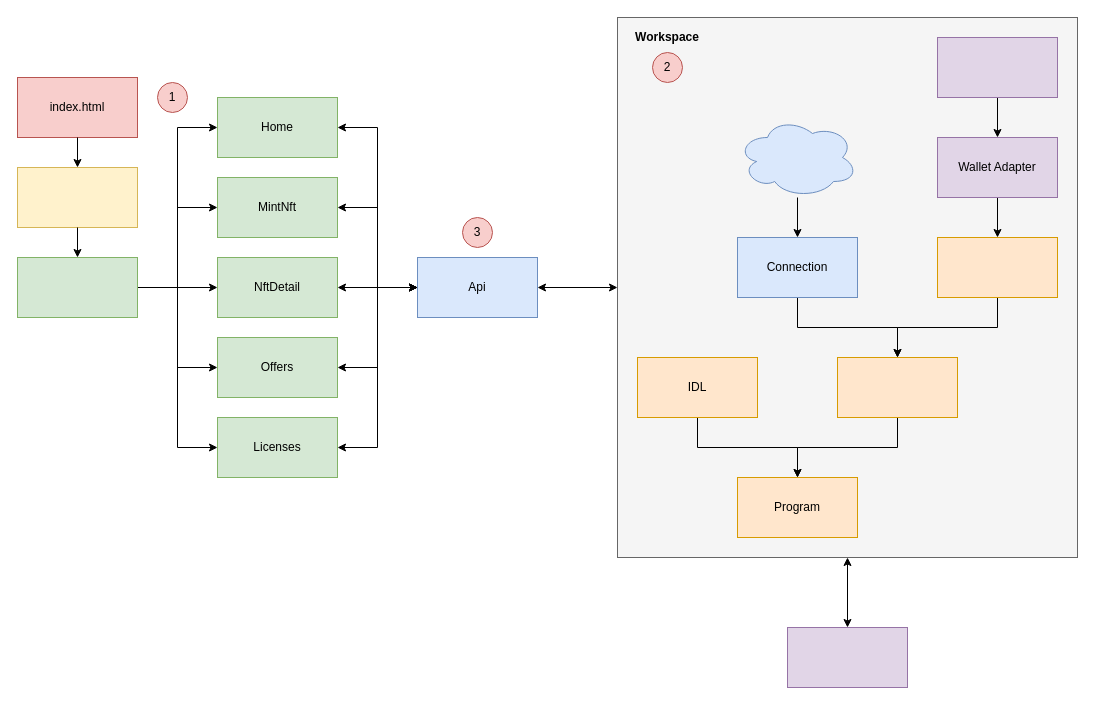
This 1095x705 diagram has some shape labels left out. The centre of each missing label's shape, as x and y in pixels:
"Blockchain" belongs at (x=847, y=657).
"Cluster" belongs at (x=797, y=157).
"main.js" belongs at (x=77, y=197).
"Phantom Wallet" belongs at (x=997, y=67).
"Provider" belongs at (x=897, y=387).
"Vue-Router" belongs at (x=77, y=287).
"Wallet" belongs at (x=997, y=267).
